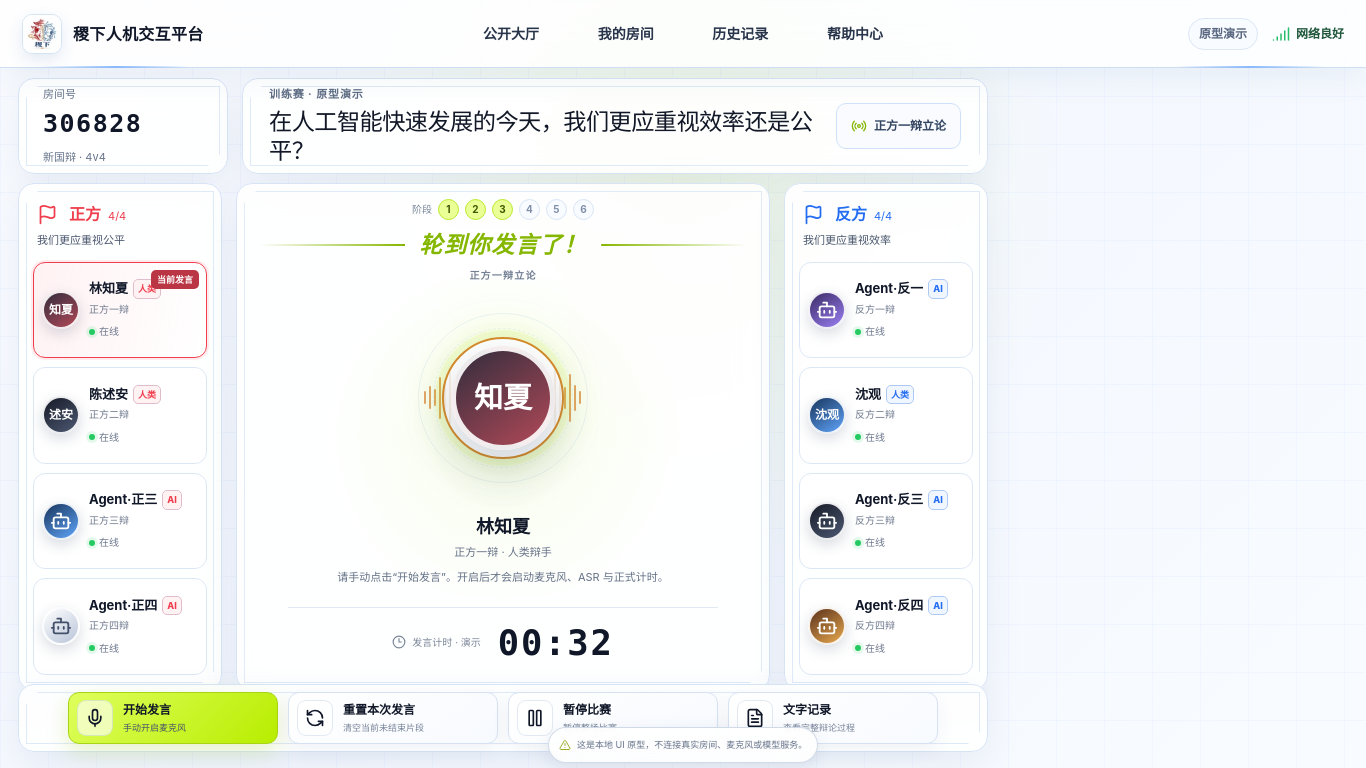
Test: DebatePrototype › requires an explicit click before a human speech starts
Expected: the text "轮到你发言了！" is shown, [419,228,587,262]
Step 1. Click the button "开始发言 手动开启麦克风" → click(173, 718), box [68,692,278,744]
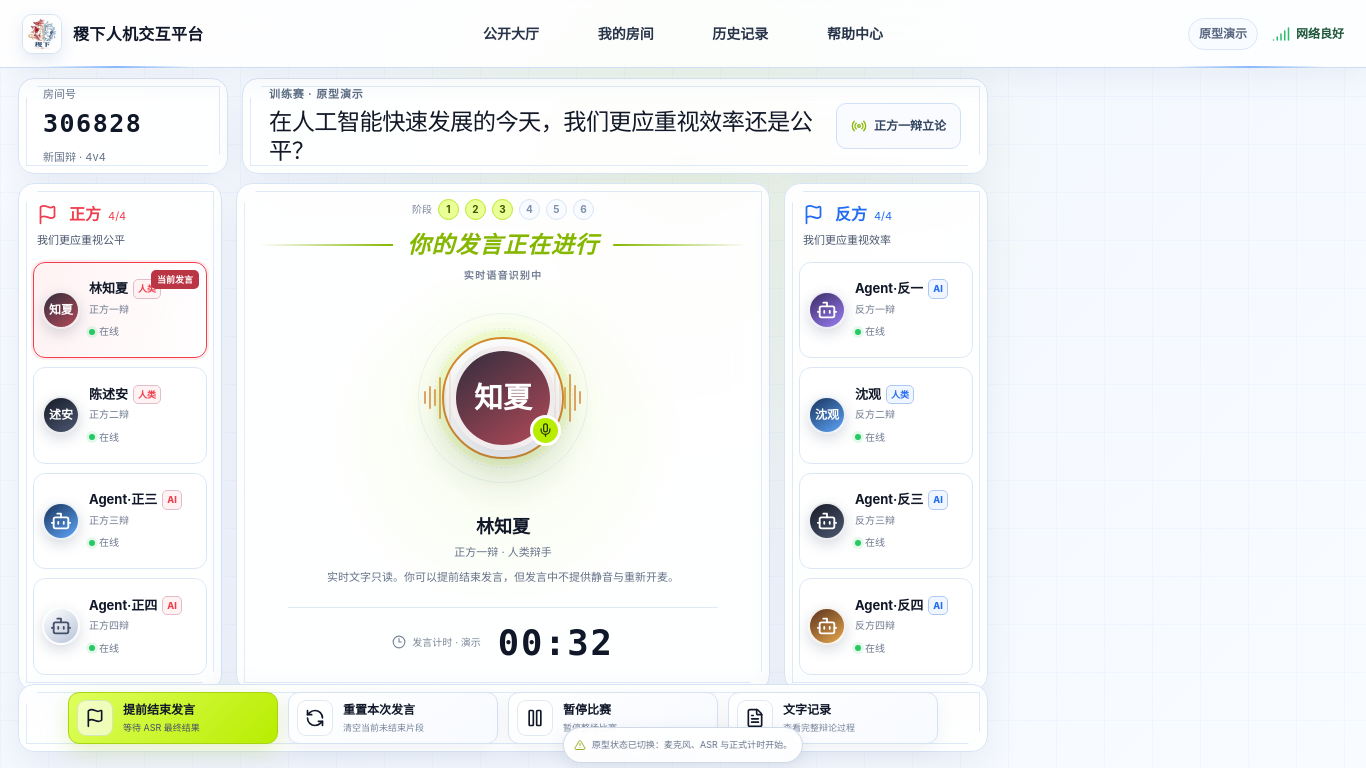
Now the text "你的发言正在进行" is shown, box [407,228,599,262]
Now the text "开始发言" is gone
